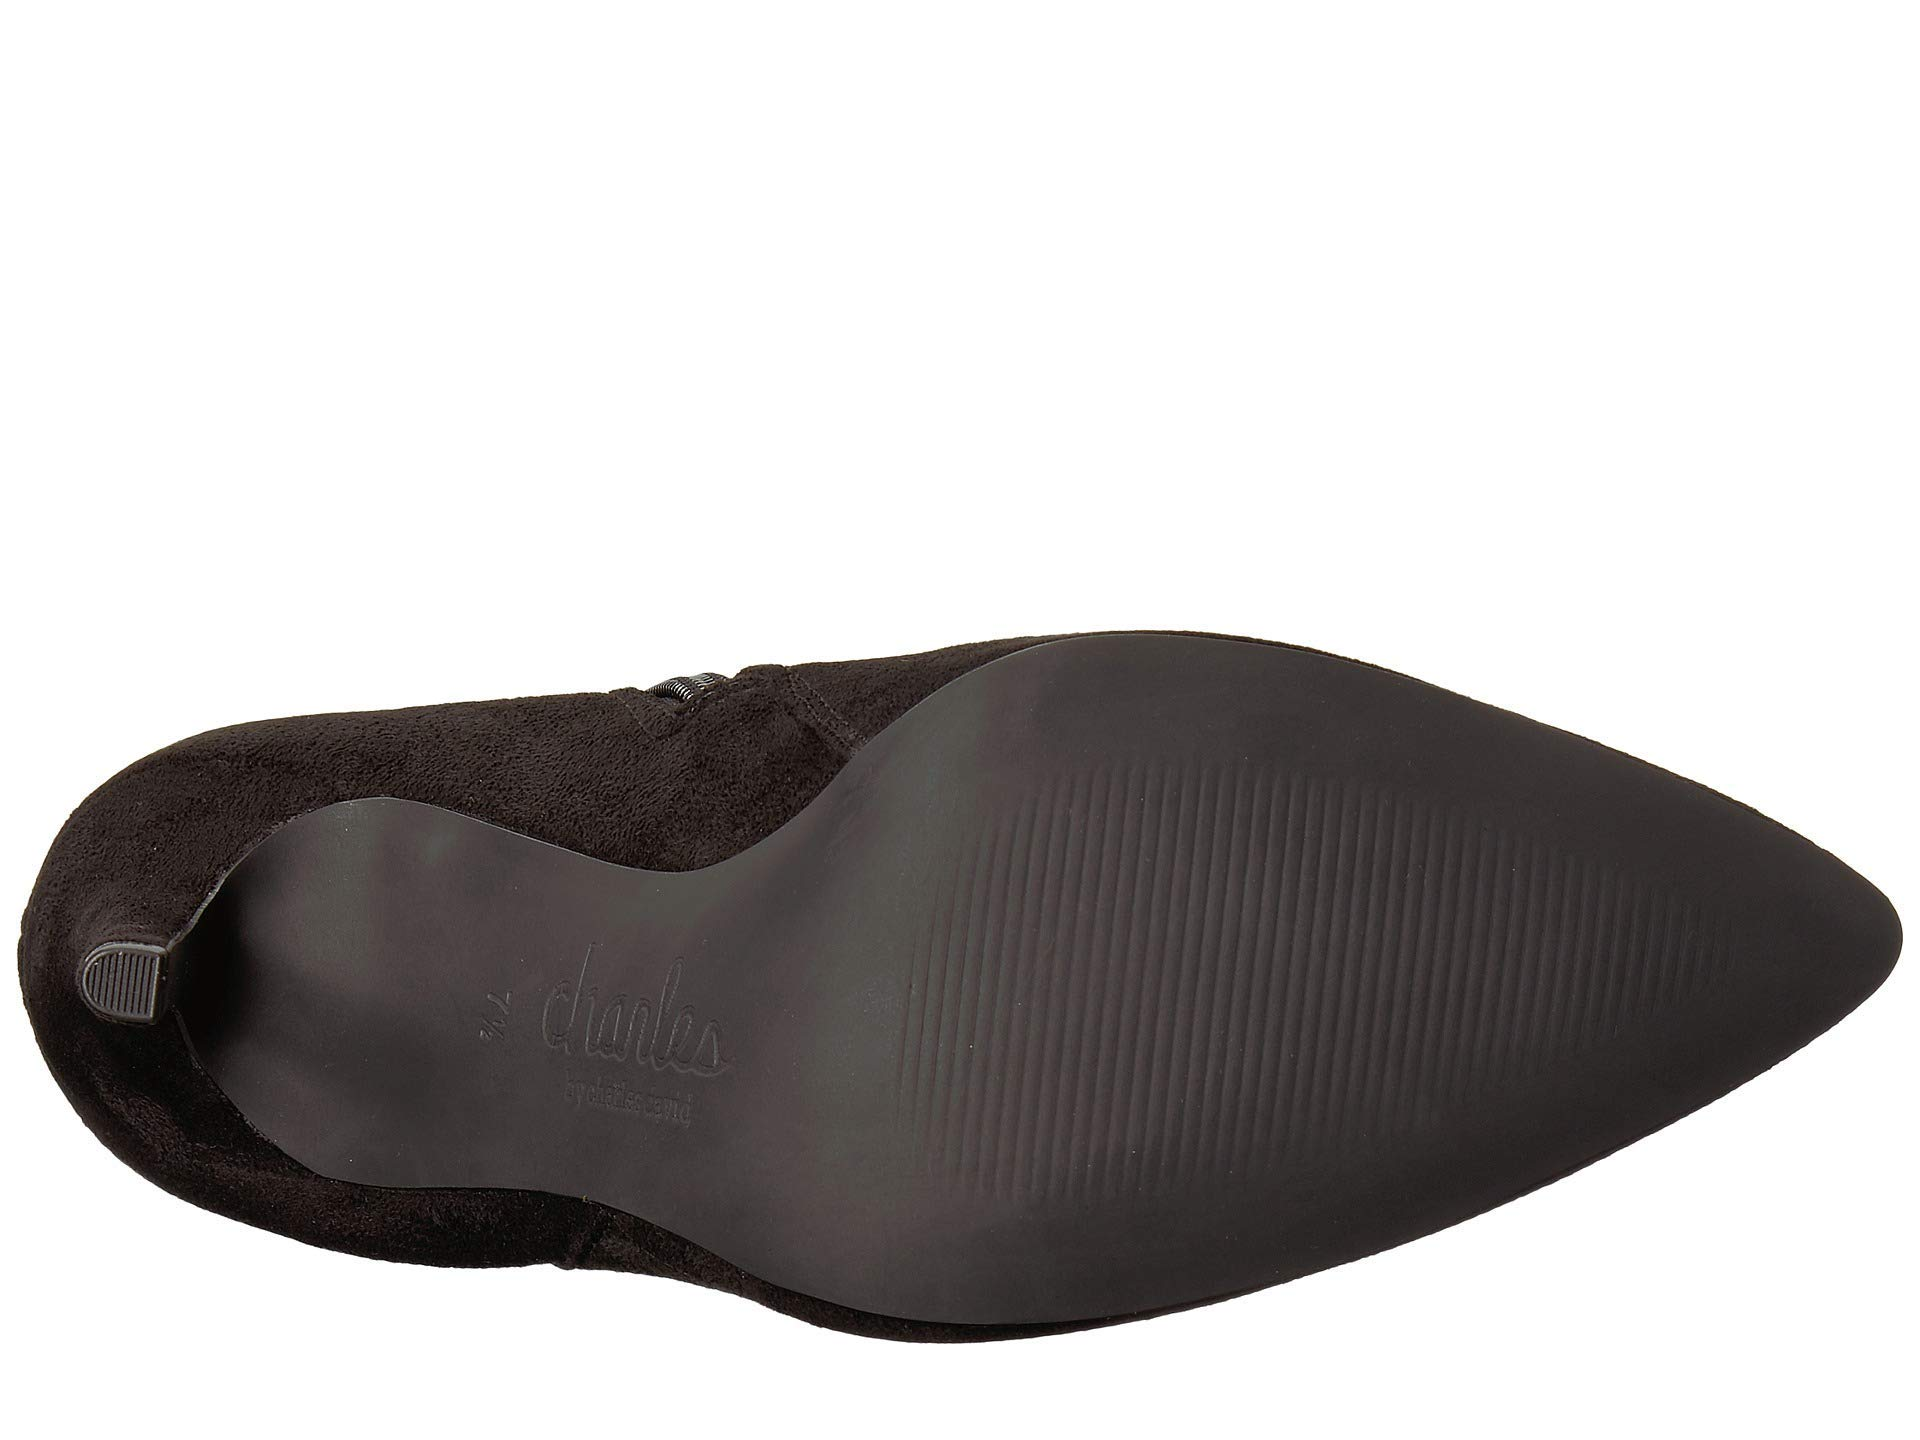line: (1005, 770, 1628, 1156)
